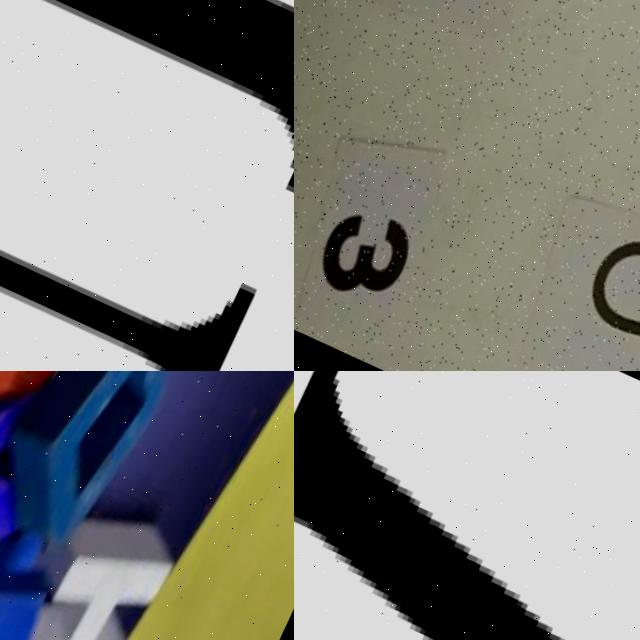0: (560, 196, 640, 371)
3: (301, 178, 445, 328)
B: (294, 371, 570, 640)
D: (0, 371, 215, 584)
H: (0, 450, 206, 640)
U: (0, 0, 294, 371)
